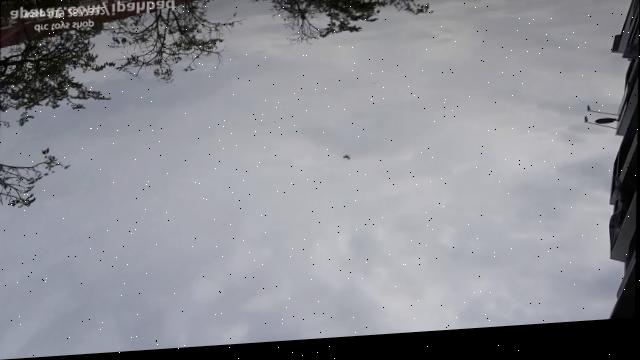drone: (340, 156, 352, 167)
